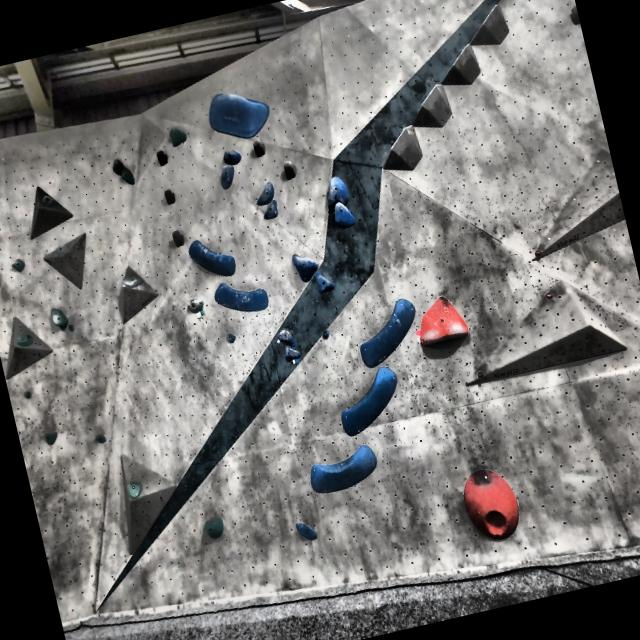Hold: (347, 278, 425, 372), (454, 456, 528, 548), (329, 363, 409, 440), (298, 436, 388, 496), (198, 80, 276, 147), (409, 288, 468, 350), (212, 272, 276, 319), (183, 232, 240, 282), (286, 243, 324, 283), (316, 173, 354, 209), (44, 300, 77, 336), (292, 511, 325, 543), (162, 121, 192, 151), (200, 516, 232, 544), (308, 268, 336, 298), (255, 180, 283, 210), (331, 202, 358, 232), (120, 268, 150, 294), (214, 163, 238, 191), (124, 472, 146, 502), (258, 199, 282, 225), (38, 426, 63, 449), (218, 143, 240, 168), (185, 294, 210, 316), (274, 328, 298, 350), (12, 329, 37, 349), (280, 344, 304, 364), (7, 253, 28, 274), (119, 164, 139, 186), (108, 153, 126, 175), (18, 382, 33, 401), (92, 431, 106, 445), (319, 328, 332, 342), (224, 330, 236, 343)
